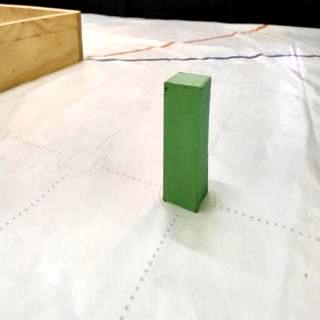greenbox: (163, 70, 213, 216)
